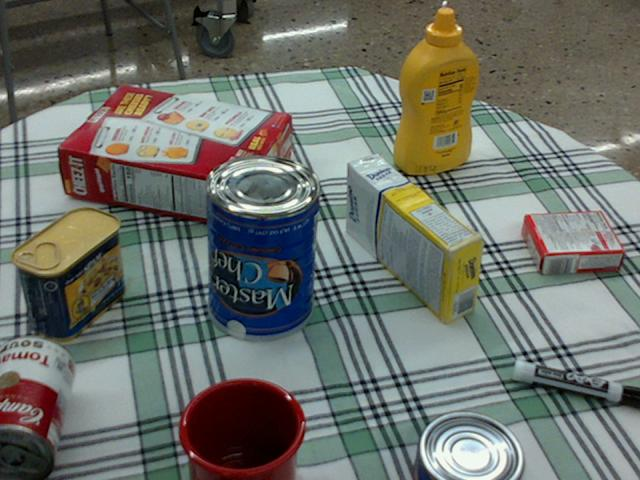cracker_box: (58, 86, 288, 226)
gelatin_box: (520, 211, 622, 274)
large_marker: (513, 359, 639, 407)
master_chef_can: (203, 154, 319, 340)
mug: (172, 377, 301, 479)
mustard_bottle: (392, 8, 478, 173)
potted_meat_can: (13, 206, 123, 340)
sugar_box: (345, 155, 483, 322)
tomato_soup_can: (0, 335, 75, 479)
tuna_fish_can: (412, 414, 523, 479)
